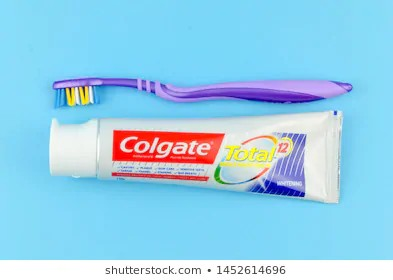colgate-total-150gm: (48, 115, 347, 207)
toothbrush: (50, 71, 355, 111)
